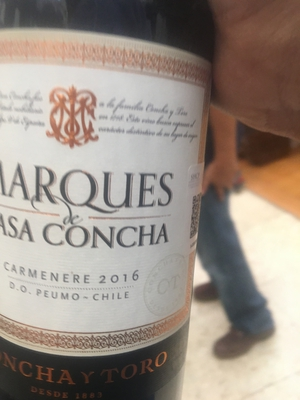marques de casa concha carmenere: (4, 6, 211, 400)
